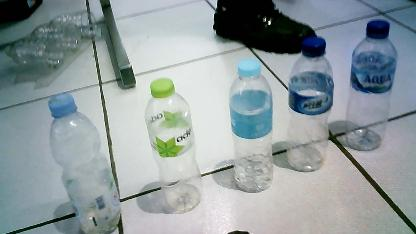Plastic Bottle: (30, 90, 132, 234), (130, 72, 214, 218), (346, 19, 416, 172), (219, 55, 284, 197), (284, 38, 342, 188)
